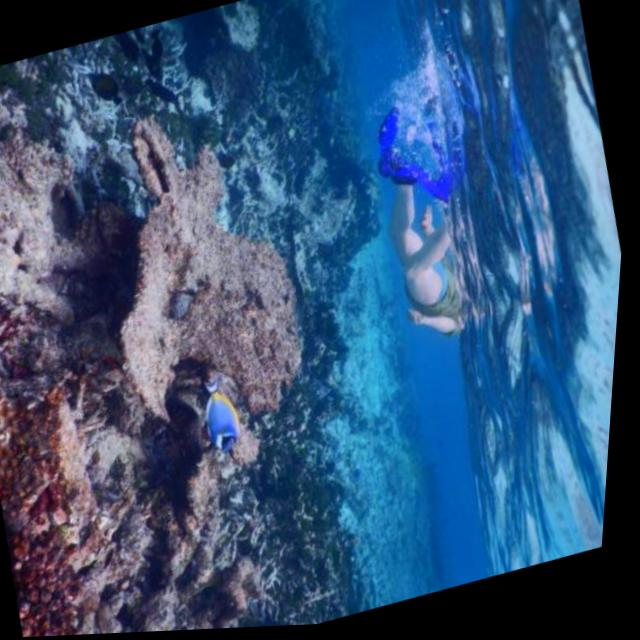Dead Coral: (0, 75, 376, 584)
